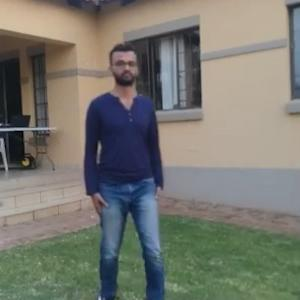follow: (92, 65, 160, 277)
